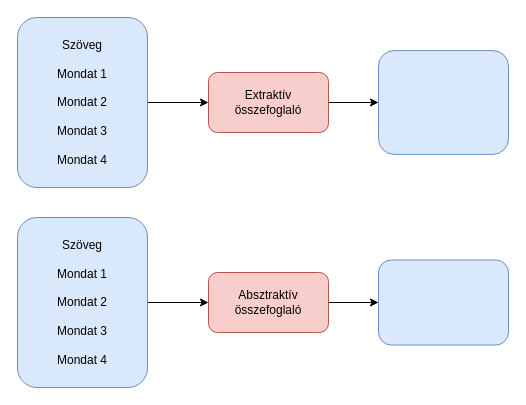
Some shapes in this 526 by 405 pixel diagram are drawn without their labels. Each missing label, with the box of its shape:
Összefoglaló Mondat 2 Mondat 4: (378, 50, 508, 154)
Összefoglaló Új Mondatok: (378, 259, 508, 345)
